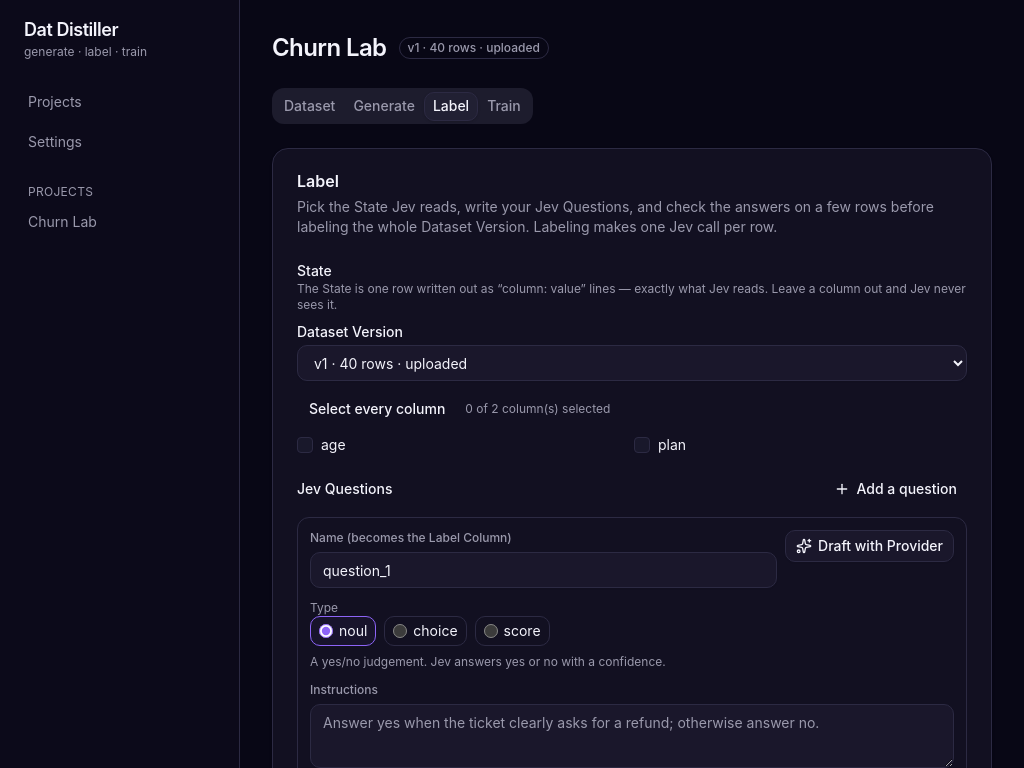
Scenario: Label step — the preview gate and the run › will not run before a preview, and says why
This screenshot has width=1024, height=768.
Replace the text in the field labelled "Name (becomes the Label Column)" with "is_churn": (544, 570) [310, 552, 777, 588]
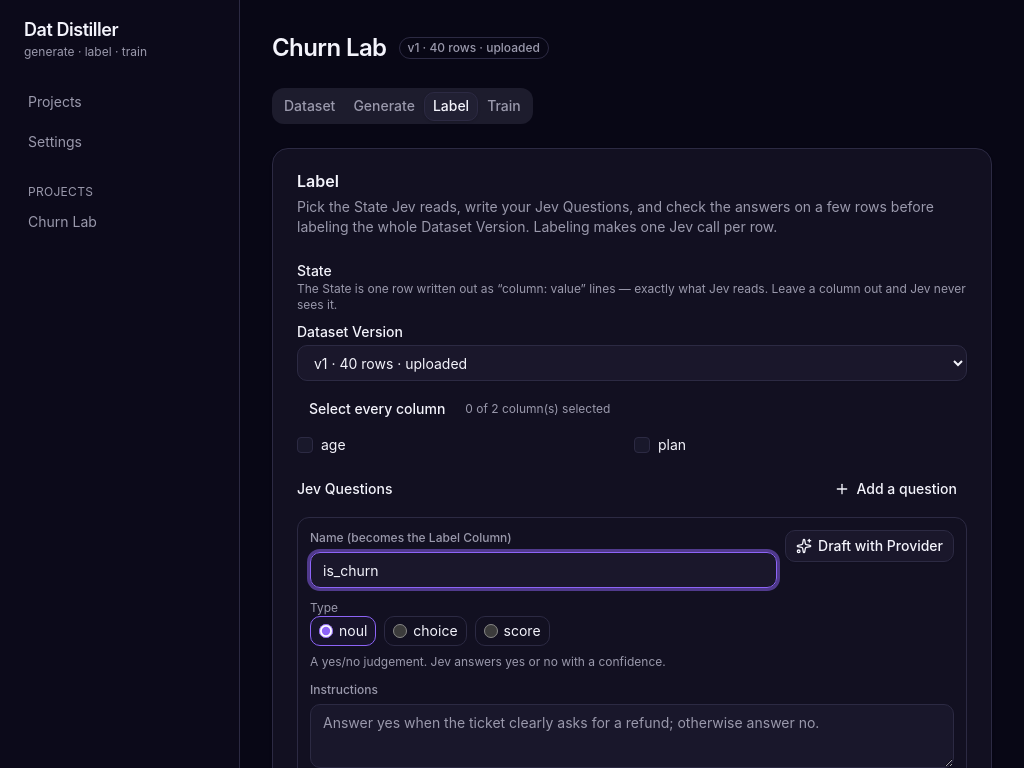
In the text box labelled "Instructions": (632, 736) [310, 704, 954, 767], type "Answer yes when the customer cancelled within 30 days."
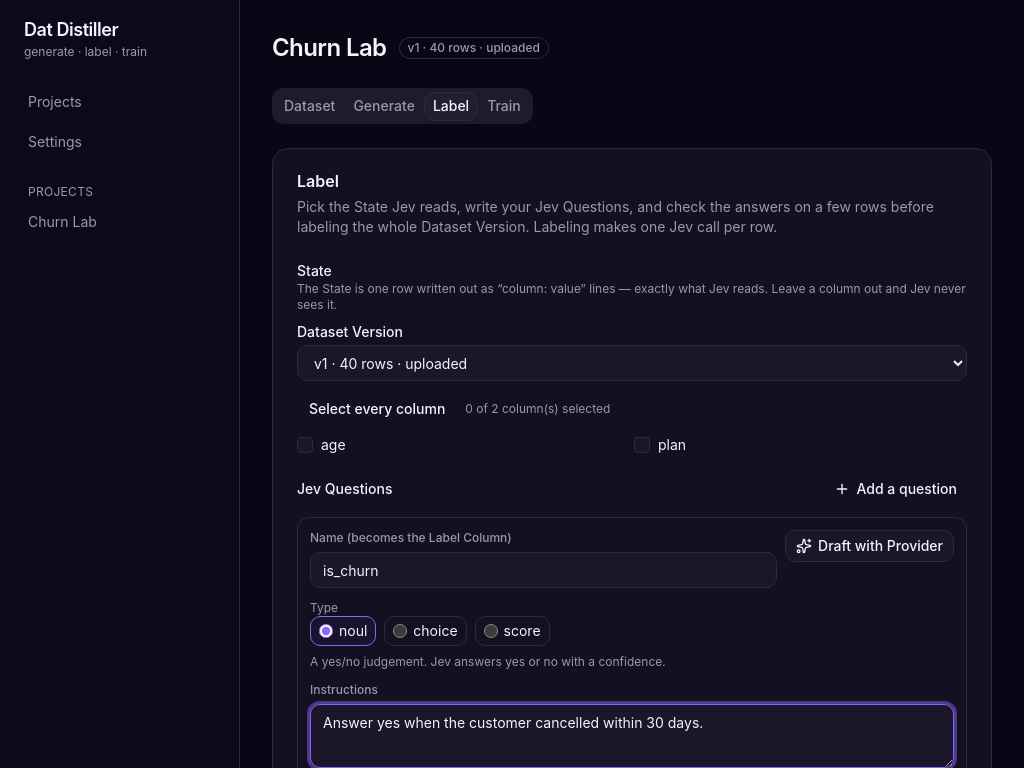
Click the button "Select every column": (377, 409) [297, 393, 457, 425]
(page scrolled)
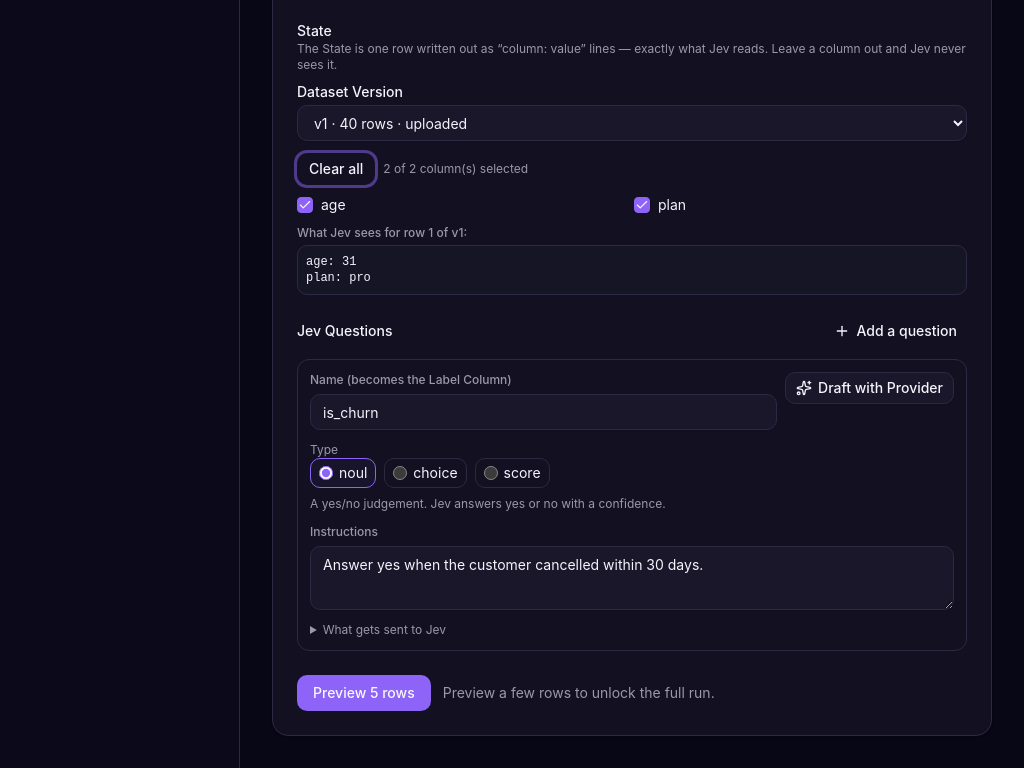
Expected: the text "Preview a few rows to unlock the full run." is shown, [443, 683, 715, 703]
